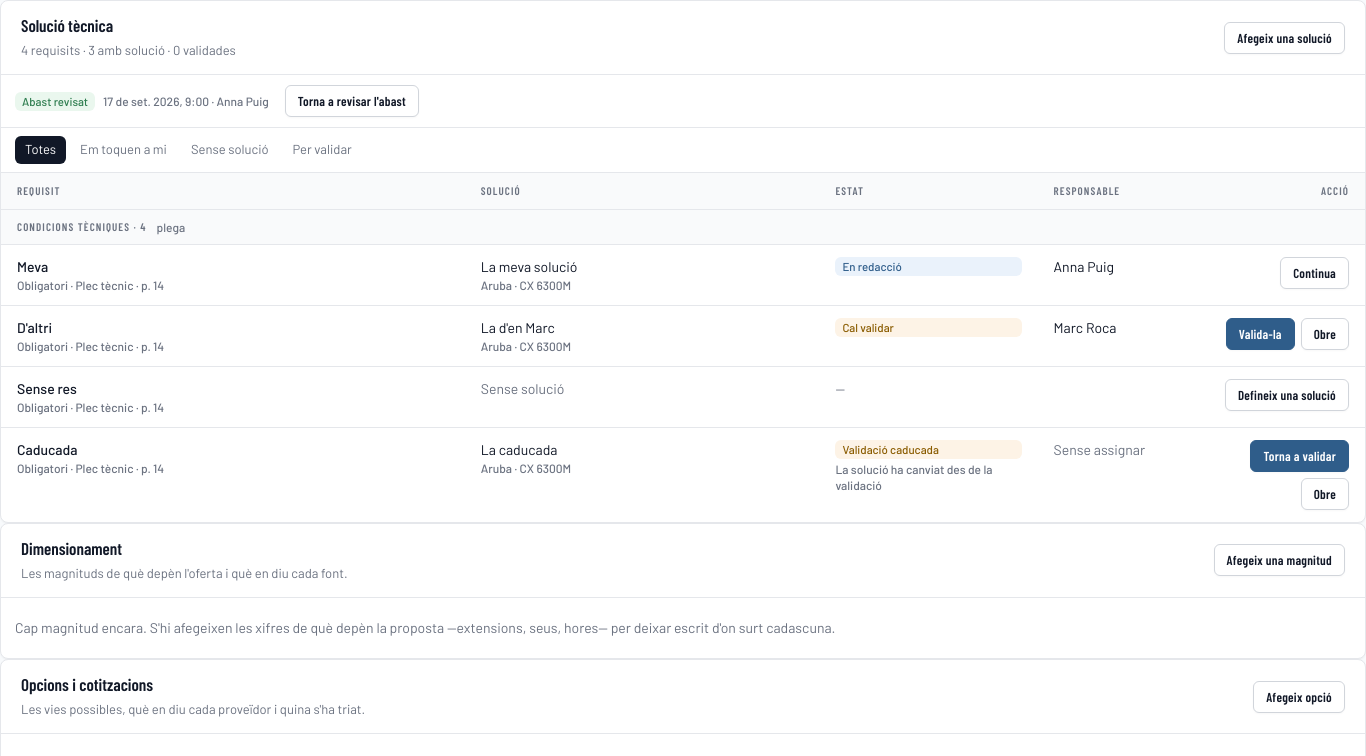
Solució tècnica · filtres › Em toquen a mi
What coordinates should you click on to do the following:
click the button "Em toquen a mi"
I would click on:
 (124, 150)
Its box is top-left (70, 136), bottom-right (177, 164).
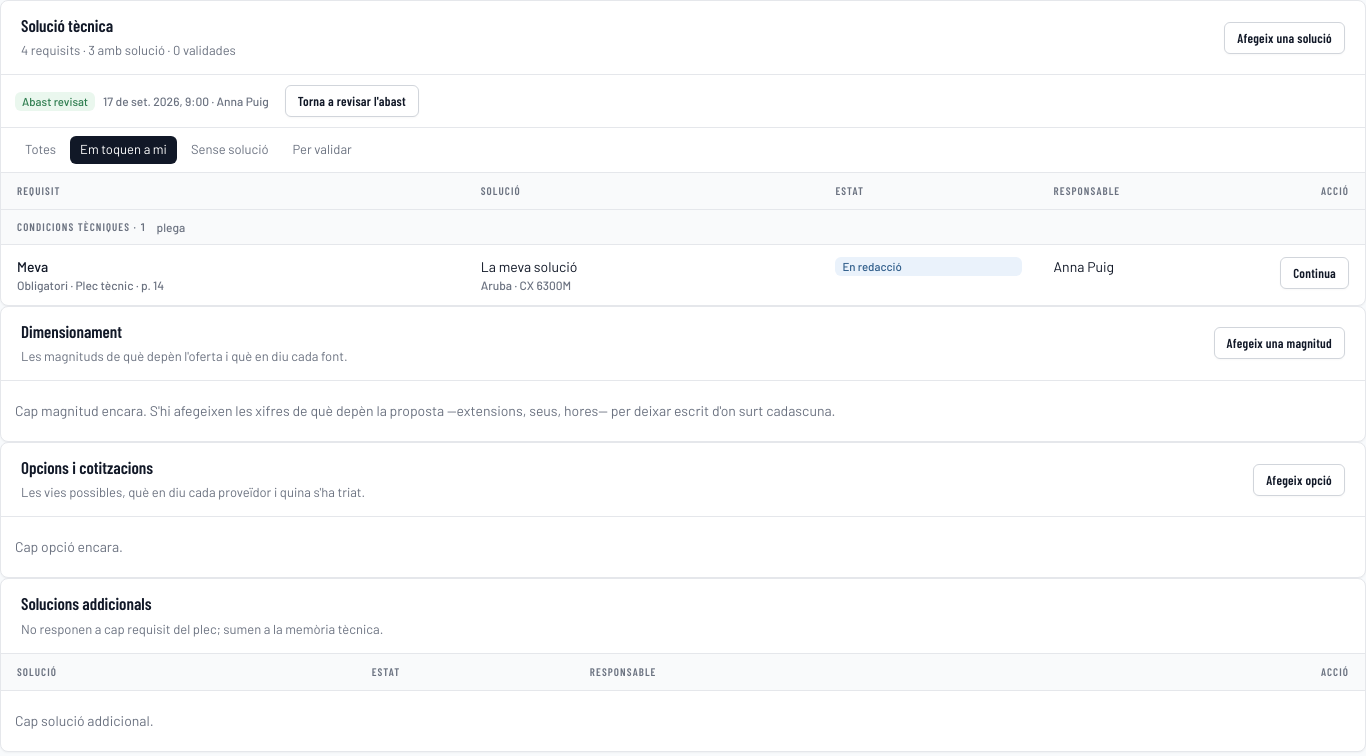
expect the text "Meva" is shown: met, box top-left (17, 258), bottom-right (48, 275)
expect the text "D'altri" is gone: met
expect the text "Sense res" is gone: met
